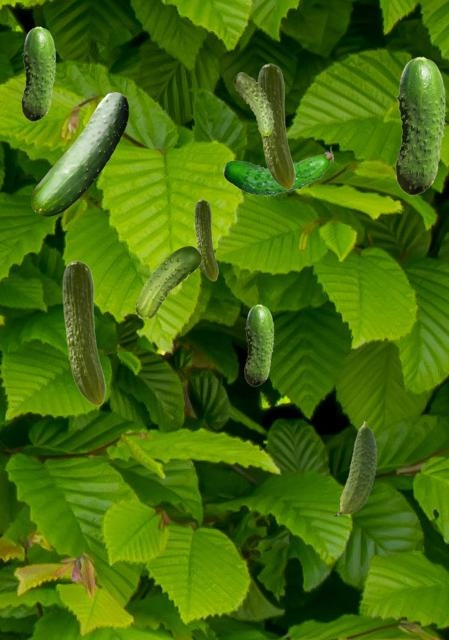cucumber: (31, 92, 127, 215), (395, 56, 445, 194), (62, 260, 105, 405), (222, 146, 332, 195), (257, 63, 294, 189), (135, 246, 200, 317), (334, 421, 376, 515), (21, 26, 55, 120), (233, 72, 273, 134), (244, 304, 273, 385), (194, 199, 217, 280)
